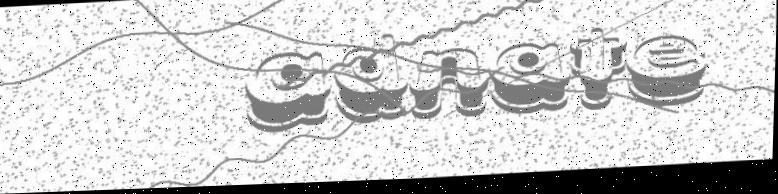a: (242, 50, 335, 136), (488, 43, 573, 120)
d: (333, 35, 411, 128)
e: (623, 38, 707, 114)
n: (408, 50, 488, 124)
t: (568, 30, 627, 116)
